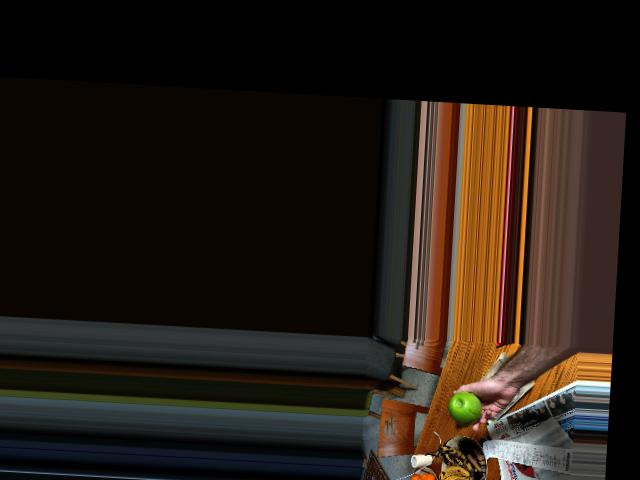apple: (445, 390, 483, 425)
